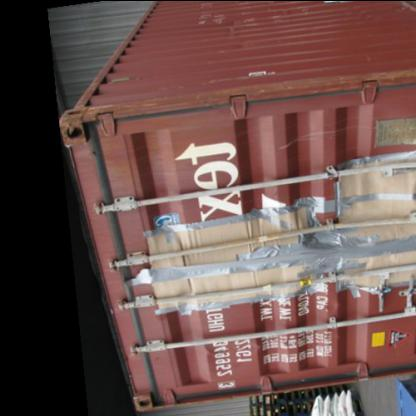Damage: (140, 168, 416, 314)
